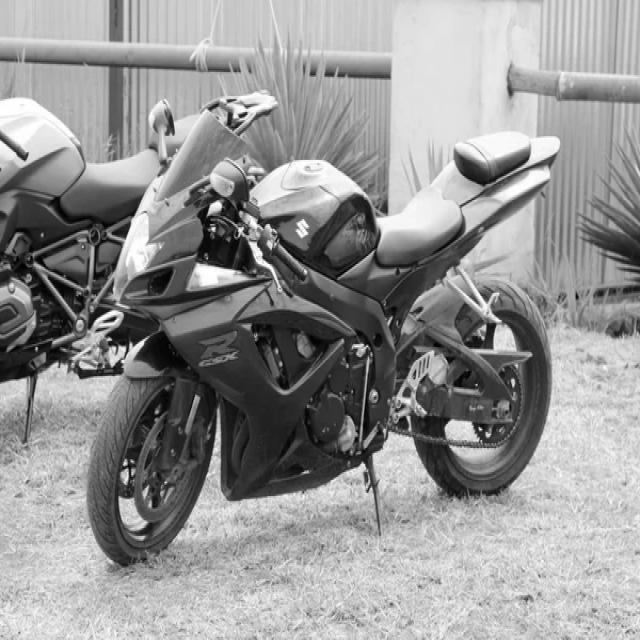Motorcycle: (86, 98, 561, 564)
